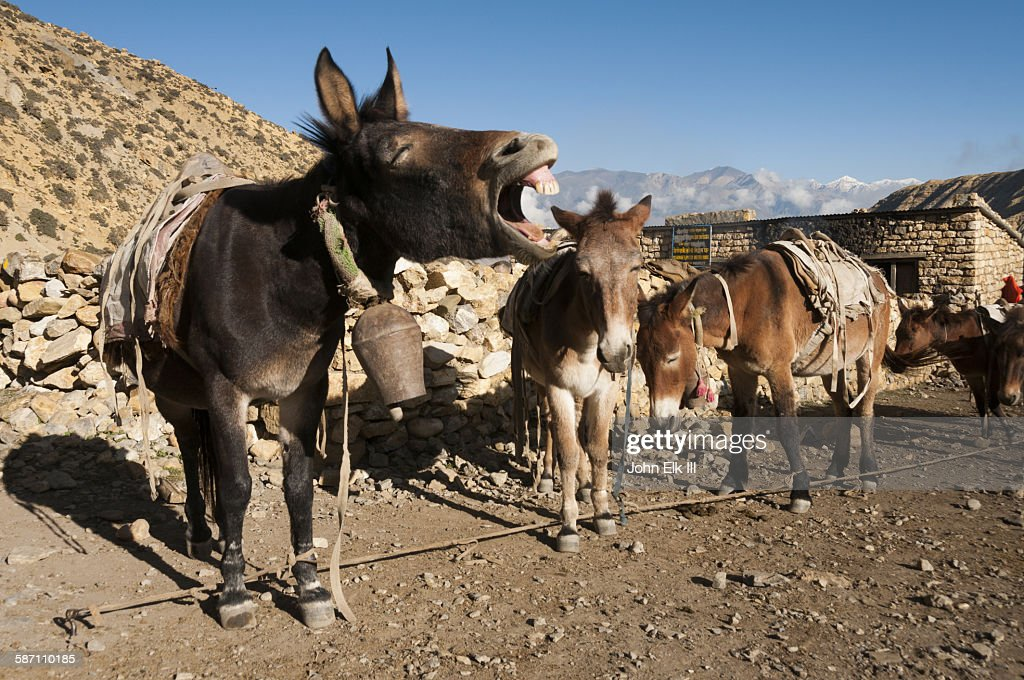equine: (113, 41, 611, 637), (626, 219, 916, 529), (481, 175, 684, 569), (885, 279, 1024, 382)
